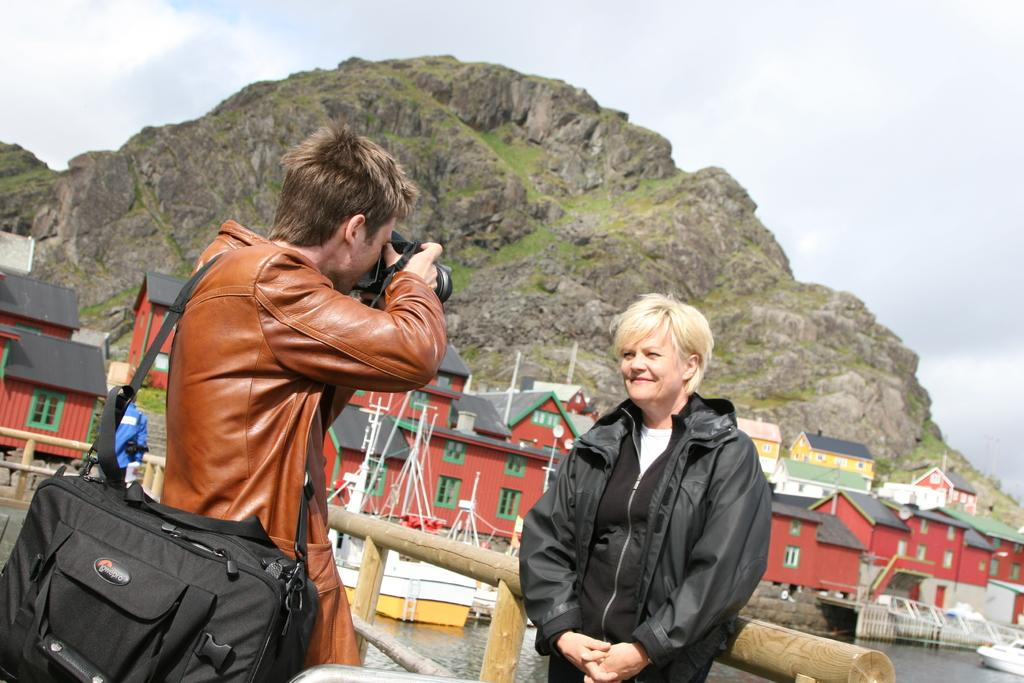Luggage-and-bags: (0, 248, 335, 682)
